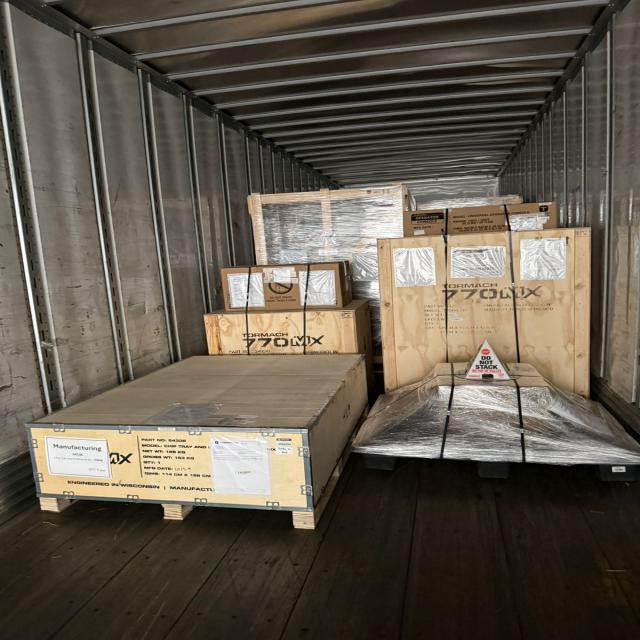15lx: (253, 184, 404, 356)
770b: (378, 203, 590, 396)
encl770: (27, 354, 367, 513)
stnd770: (204, 261, 372, 376)
